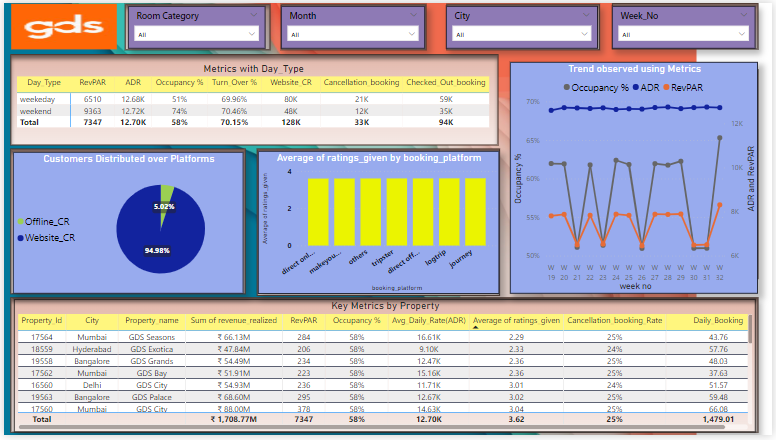

Layout of this report page (visuals, bound fields, positions):
{"tool":"powerbi","page":{"name":"Metrics Descriptive Analysis","canvas":[1280,720],"ordinal":1},"visuals":[{"type":"pivotTable","title":"Metrics with Day_Type","fields":{"Rows":["dim_date.day_type"],"Values":["dim_date.revenue_realized per Available room (RevPar)","dim_date.Avg_Daily_Rate(ADR)","dim_date.Occupancy %","dim_date.Turn_Over %","dim_date.Website_CR","dim_date.Cancellation_booking","dim_date.Checked_Out_booking"]},"box":[581.5,261.9,686.5,150],"z":0},{"type":"lineChart","title":"Trend observed using Metrics","fields":{"Category":["dim_date.week no"],"Y":["dim_date.Occupancy %"],"Y2":["dim_date.Avg_Daily_Rate(ADR)","dim_date.revenue_realized per Available room (RevPar)"]},"box":[8.3,85,558.3,326.7],"z":1000},{"type":"slicer","fields":{"Values":["dim_rooms.room_class"]},"box":[31.7,0,290.5,91.6],"z":2000},{"type":"slicer","fields":{"Values":["dim_date.Date.Variation.Date Hierarchy.Month"]},"box":[353.9,0,287,91.6],"z":3000},{"type":"slicer","fields":{"Values":["dim_hotels.City"]},"box":[684.9,0,272.9,91.6],"z":4000},{"type":"slicer","fields":{"Values":["dim_date.week no"]},"box":[976.7,0,291.7,91.7],"z":5000},{"type":"tableEx","title":"Key Metrics by Property","fields":{"Values":["dim_hotels.Property_Id","dim_hotels.City","dim_hotels.Property_name","Sum(fact_bookings.revenue_realized)","dim_date.revenue_realized per Available room (RevPar)","dim_date.Occupancy %","dim_date.Avg_Daily_Rate(ADR)","Avg(fact_bookings.ratings_given)","dim_date.Cancellation_booking divided by Count of booking_id","dim_date.Daily_Booking"]},"box":[0,423.3,1280,296.7],"z":6000},{"type":"pieChart","title":"Customers Distributed over Platforms","fields":{"Y":["Calculations.Offline_CR","dim_date.Website_CR"]},"box":[581.5,61.2,305.8,200.8],"z":6001},{"type":"columnChart","fields":{"Y":["Avg(fact_bookings.ratings_given)"],"Category":["fact_bookings.booking_platform"]},"box":[887.3,61.2,369.2,200.8],"z":6002}]}

Visuals, with their boxes in screenshot pixels (x1, y1, x2, y2), scaled from the page's 1280x720 canvas onto the 776x440 screenshot:
"Metrics with Day_Type" pivotTable: crop(353, 160, 769, 252)
"Trend observed using Metrics" lineChart: crop(5, 52, 344, 252)
slicer - dim_rooms.room_class: crop(19, 0, 195, 56)
slicer - dim_date.Date.Variation.Date Hierarchy.Month: crop(215, 0, 389, 56)
slicer - dim_hotels.City: crop(415, 0, 581, 56)
slicer - dim_date.week no: crop(592, 0, 769, 56)
"Key Metrics by Property" tableEx: crop(0, 259, 775, 439)
"Customers Distributed over Platforms" pieChart: crop(353, 37, 538, 160)
columnChart - Avg(fact_bookings.ratings_given) x fact_bookings.booking_platform: crop(538, 37, 762, 160)
